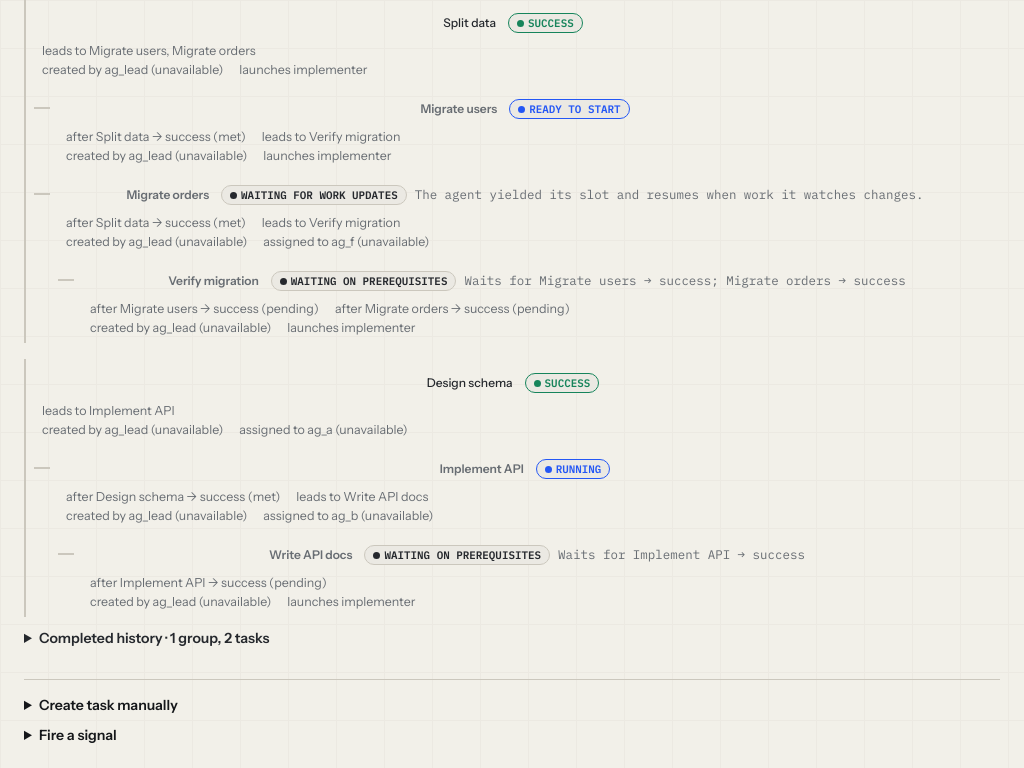
Test case: Tasks work in motion › keeps an inspected task's group and detail in place when it finishes
This screenshot has width=1024, height=768.
(page scrolled)
Step 1. Click the button "Implement API Running" → (525, 469), box [66,453,984,485]
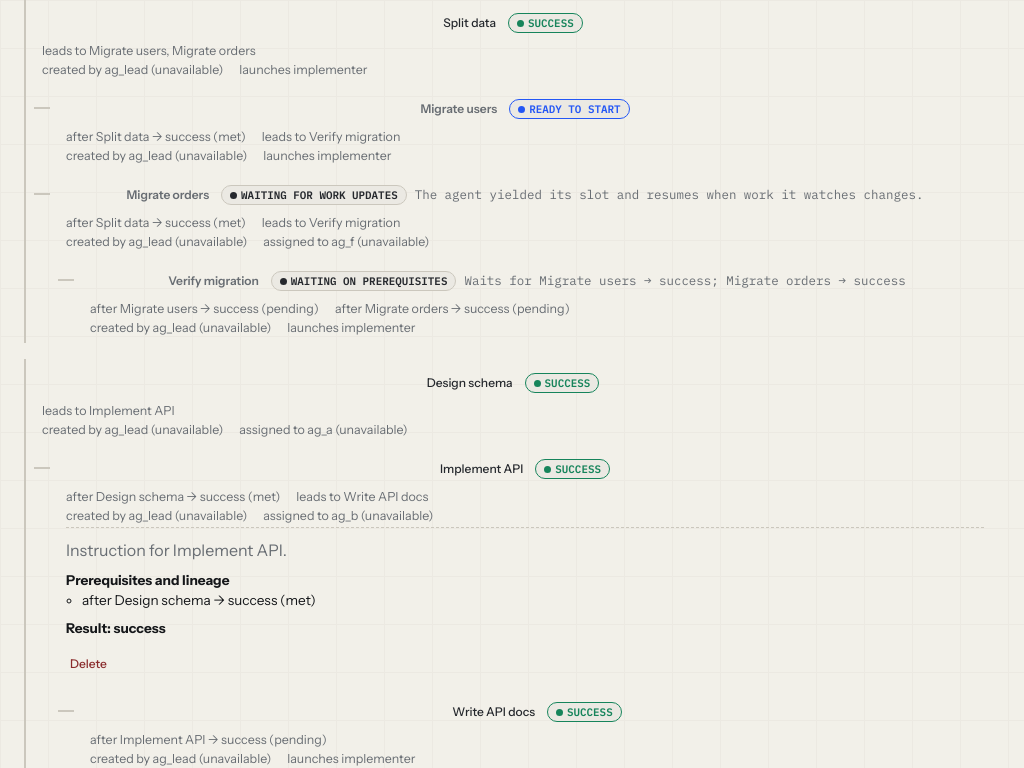
Expected: the 3rd text "Success" is shown, [555,464,601,474]
Expected: the text "Instruction for Implement API." is shown, [66,540,287,560]
